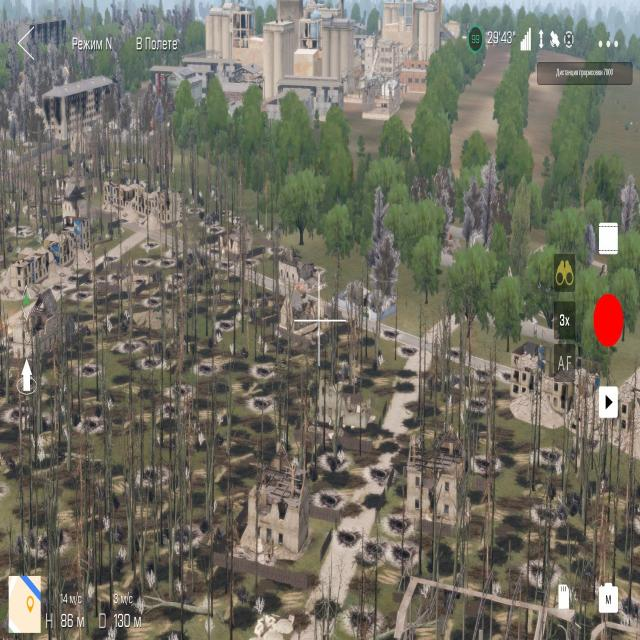fortification: (396, 567, 583, 640), (508, 332, 604, 444), (235, 450, 322, 566), (399, 431, 474, 527), (7, 284, 88, 356), (272, 236, 328, 300), (338, 272, 398, 328), (277, 288, 326, 356), (5, 241, 64, 297), (135, 174, 183, 227), (210, 204, 252, 261), (54, 212, 95, 262), (102, 175, 136, 223)
infantry: (388, 398, 395, 412), (405, 409, 412, 419), (404, 298, 408, 310)
vehicle: (269, 357, 297, 381)
